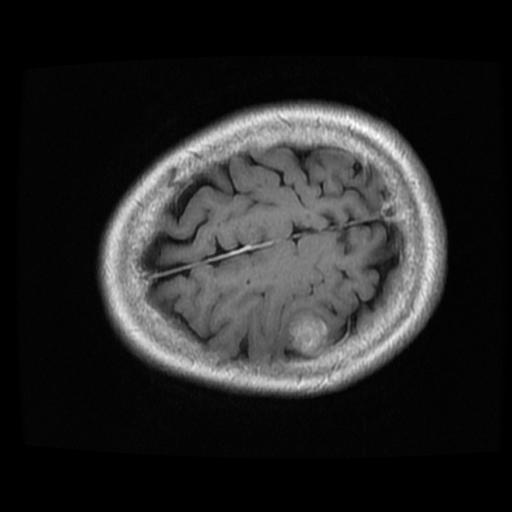meningioma: (287, 312, 325, 356)
